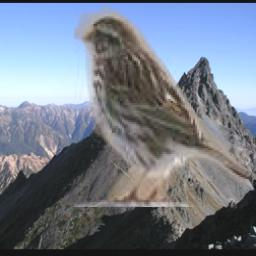Sparrow: (75, 7, 255, 208)
